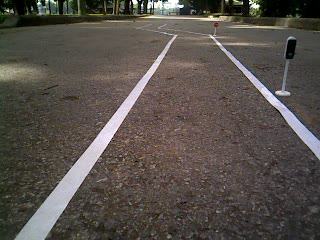Blue: (283, 34, 299, 62)
